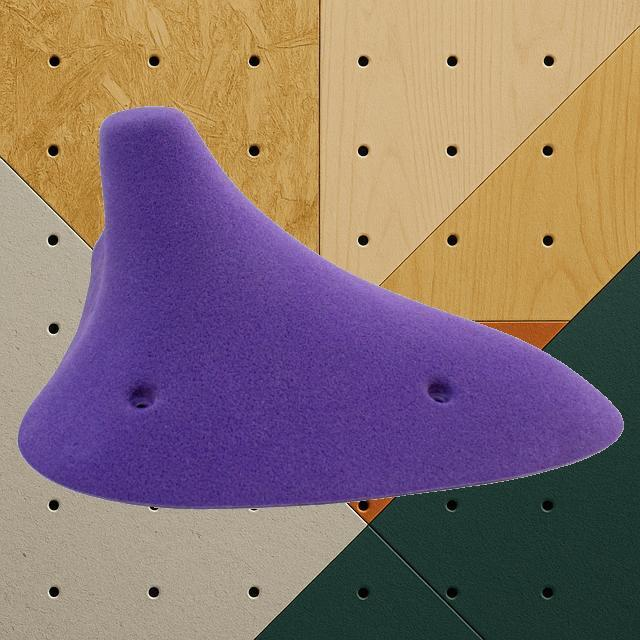Pinch: (16, 104, 624, 510)
